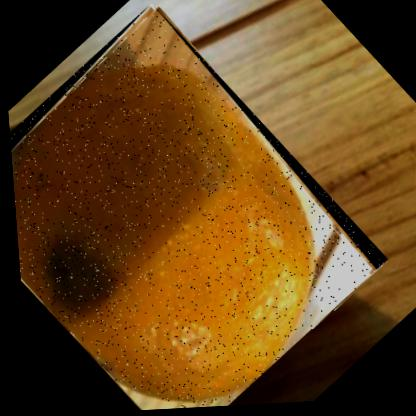orange_rotten: (1, 0, 391, 415)
